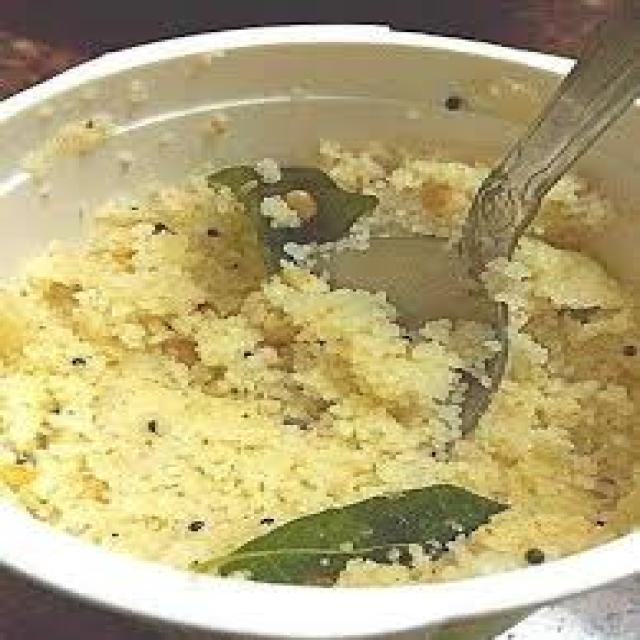POHA: (0, 141, 637, 573)
